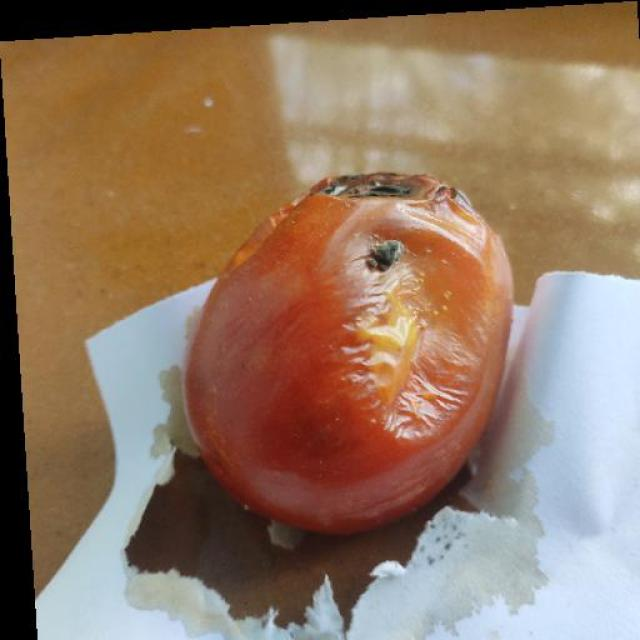Stale_tomato: (173, 156, 532, 509)
